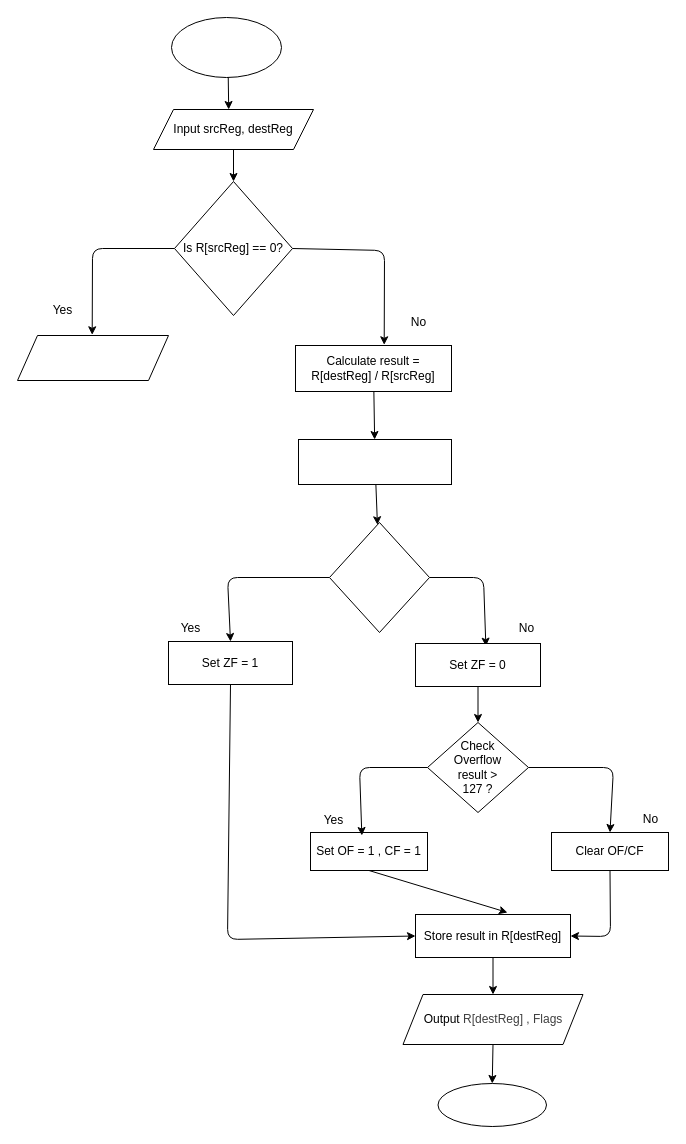
The diagram is 686 pixels wide and 1144 high, and some of its shapes have lost their labels. Each missing label, with the box of its shape:
End: (437, 1082, 546, 1126)
Is result == 0 ?: (328, 522, 430, 632)
result = static_cast ( result ): (298, 438, 452, 484)
Start: (170, 16, 282, 78)
Throw DivisionByZero Error: (16, 334, 168, 380)
